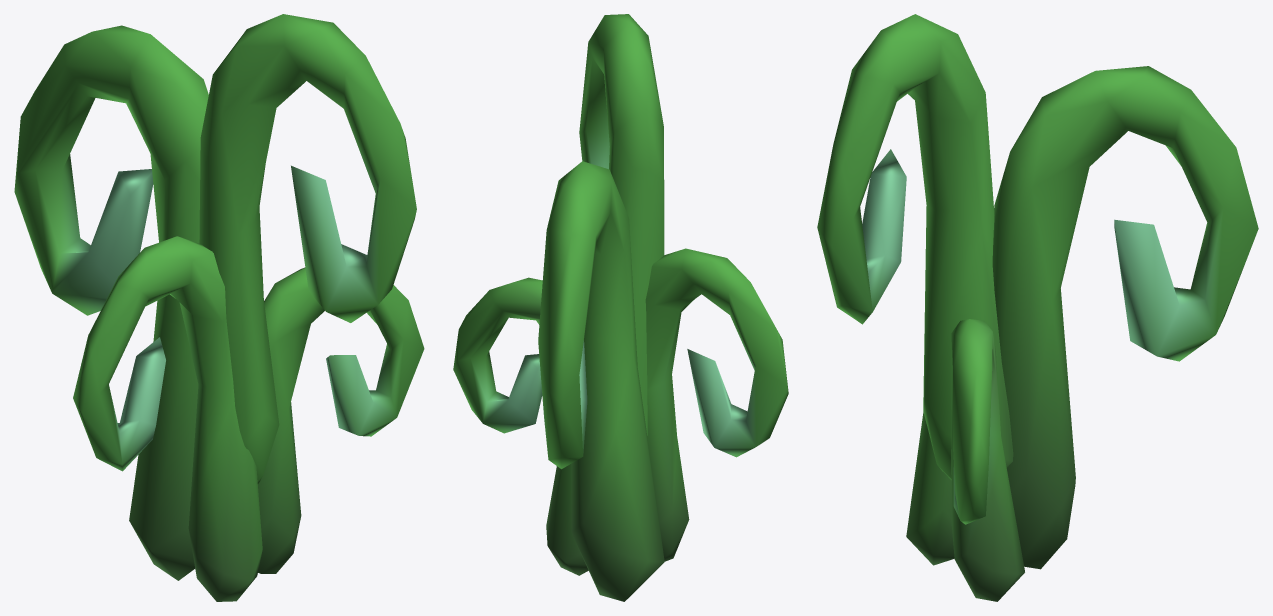
Rendered from ramita_1.gltf.
The picture shows the model from 3 angles, left to right: view 1: azimuth 30°, elevation 25°; view 2: azimuth 150°, elevation 25°; view 3: azimuth 270°, elevation 25°; orthographic projection. The views are drawn at different scales.
Parts seen in each view (by area): view 1: PM3D_Sphere3D2; view 2: PM3D_Sphere3D2; view 3: PM3D_Sphere3D2.
Boxes of the visible parts, x1,y1,x2,y2 form: PM3D_Sphere3D2: (14, 14, 424, 601); PM3D_Sphere3D2: (453, 14, 788, 601); PM3D_Sphere3D2: (817, 14, 1258, 601).
Size of the model in its own units: 1.16 by 1.81 by 1.26.
